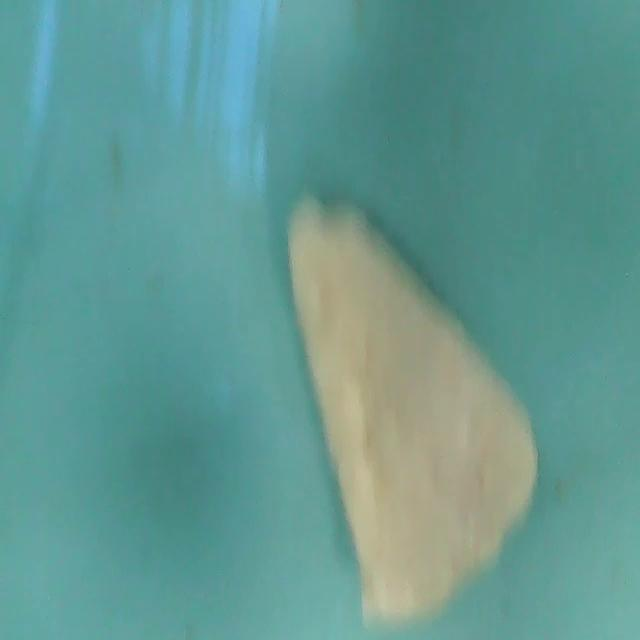rock: (290, 191, 543, 616)
